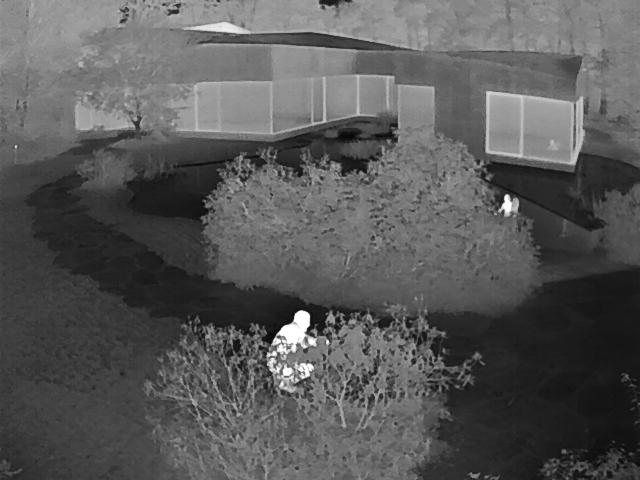person: (267, 311, 332, 394), (499, 193, 514, 217)
